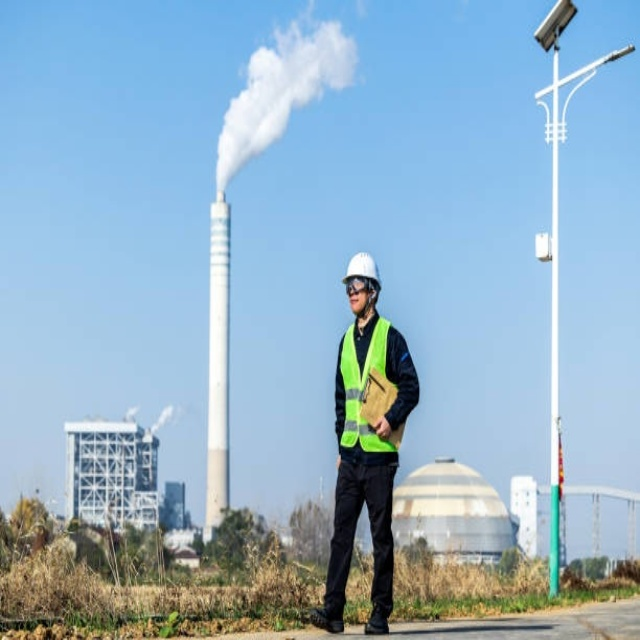Gafas: (346, 281, 370, 297)
Sin_guantes: (372, 414, 392, 442)
Sin_mascara: (346, 296, 362, 314)
